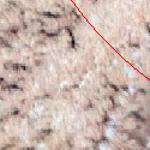alive: (2, 2, 148, 149)
